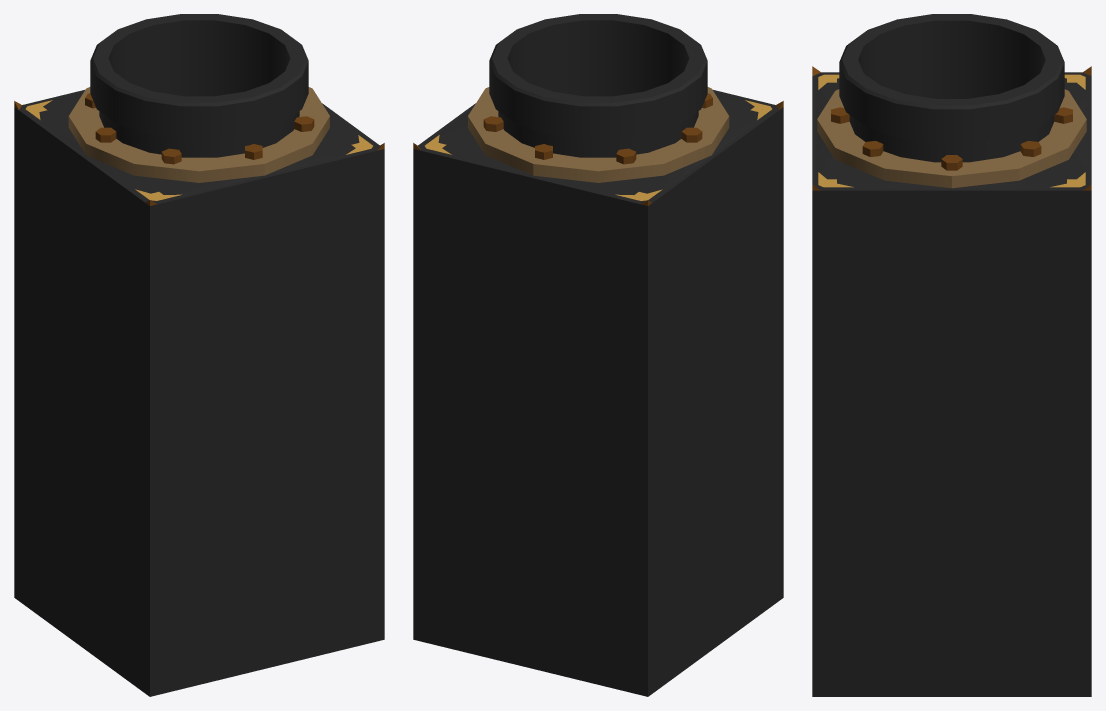
The model's file is ENTRANCE_NODE.FBX.
3 renders of one model, left to right at view 1: azimuth 30°, elevation 25°; view 2: azimuth 150°, elevation 25°; view 3: azimuth 270°, elevation 25°, orthographic. The views are drawn at different scales.
Visible parts, largest first — view 1: ENTRANCE_NODE_TUBE; view 2: ENTRANCE_NODE_TUBE; view 3: ENTRANCE_NODE_TUBE.
Boxes of the visible parts, x1,y1,x2,y2 form: ENTRANCE_NODE_TUBE: (14, 14, 384, 696); ENTRANCE_NODE_TUBE: (413, 14, 783, 696); ENTRANCE_NODE_TUBE: (812, 14, 1091, 696).
Size of the model in its own units: 100 by 100 by 228.
